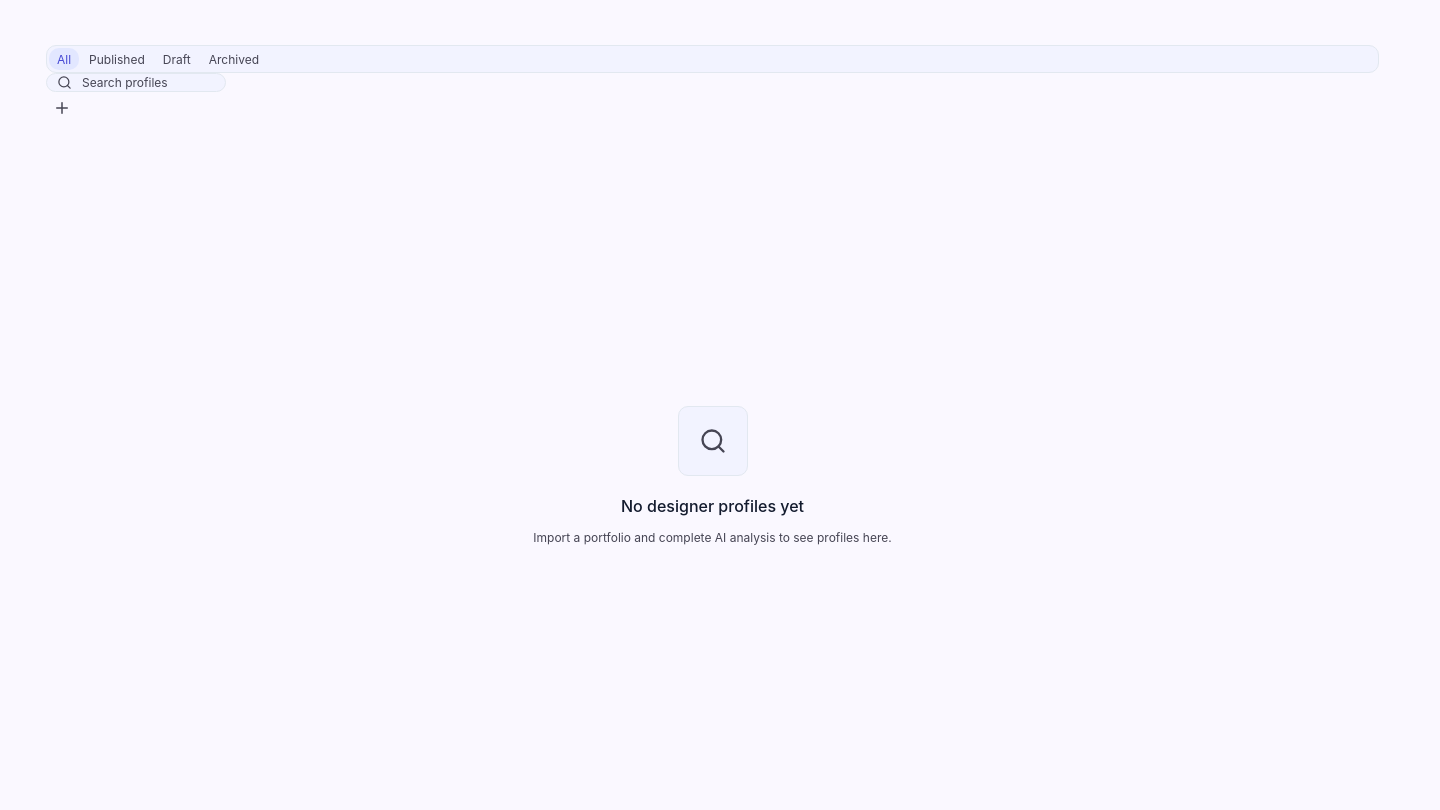
keeps an inspected selection available for retry when portfolio submission rejects
The width and height of the screenshot is (1440, 810).
Click the button named "Create from portfolio" at coordinates (62, 108), box [46,92,78,124]
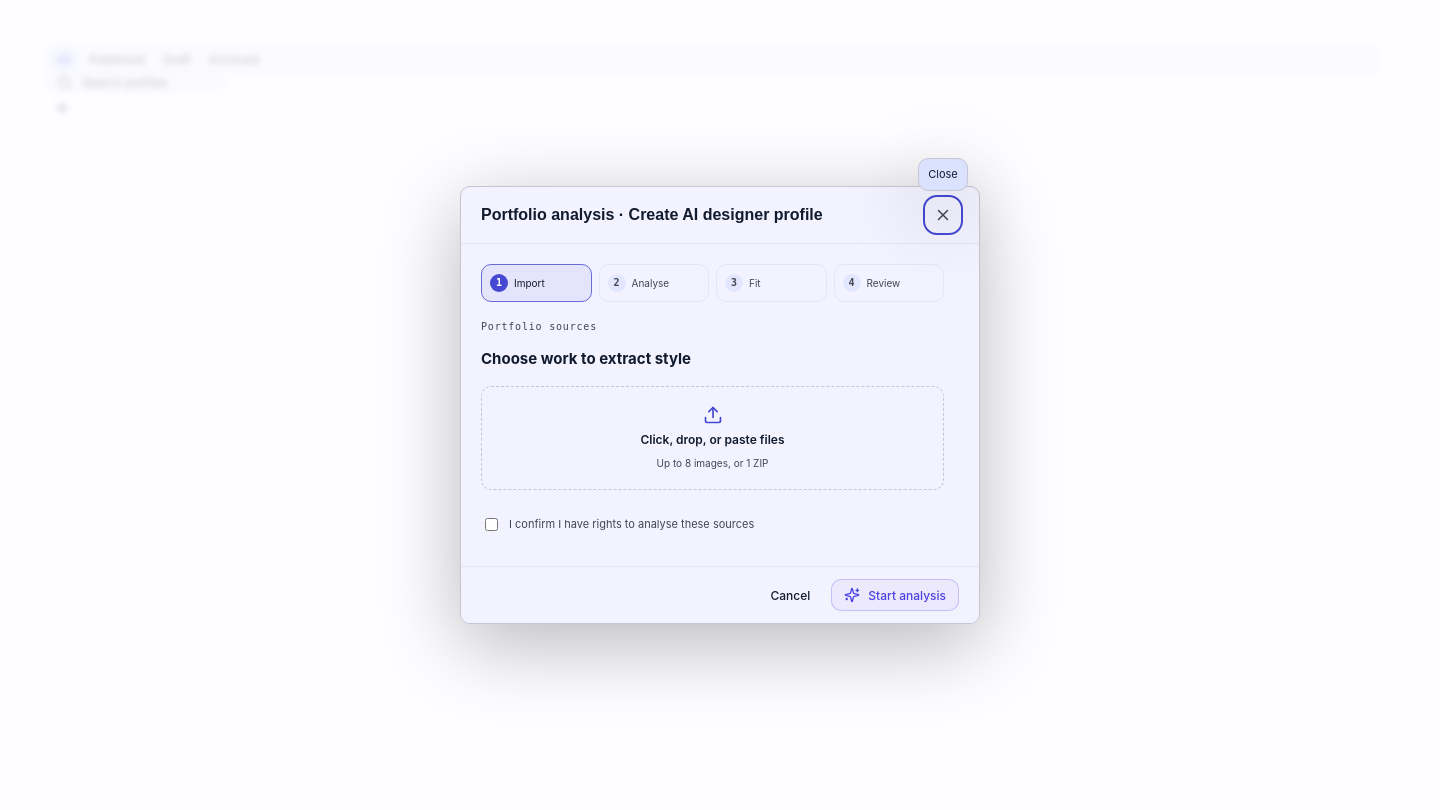
Click the button with aria-label "Upload portfolio files" at coordinates (712, 438), box [481,386,944,490]
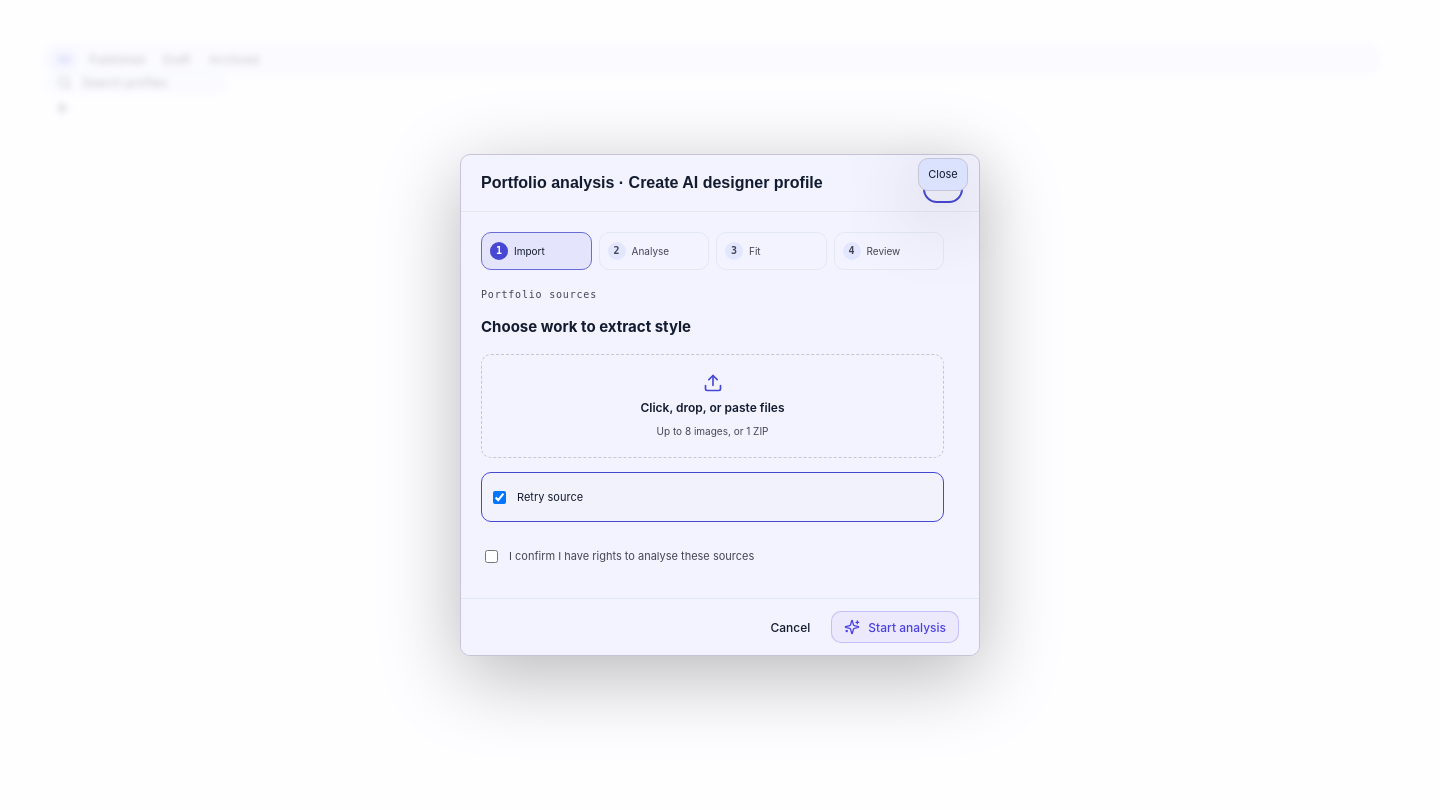
Expected: the text "Retry source" is shown, [517,490,583,504]
Click the checkbox labelled "I confirm I have rights to analyse these sources" at coordinates (492, 556), box [485,550,498,563]
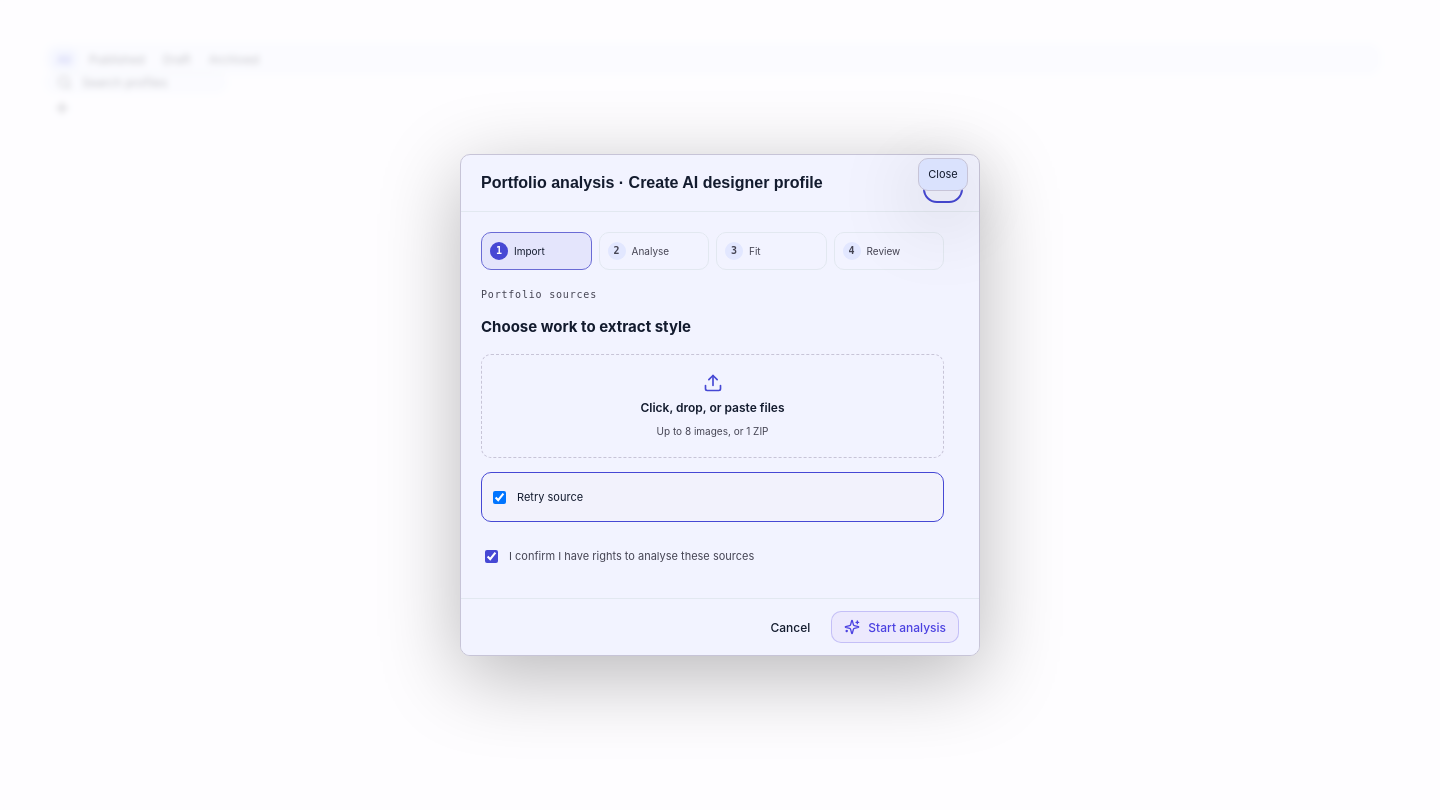
Click the button "Start analysis" at coordinates (895, 627), box [831,611,959,643]
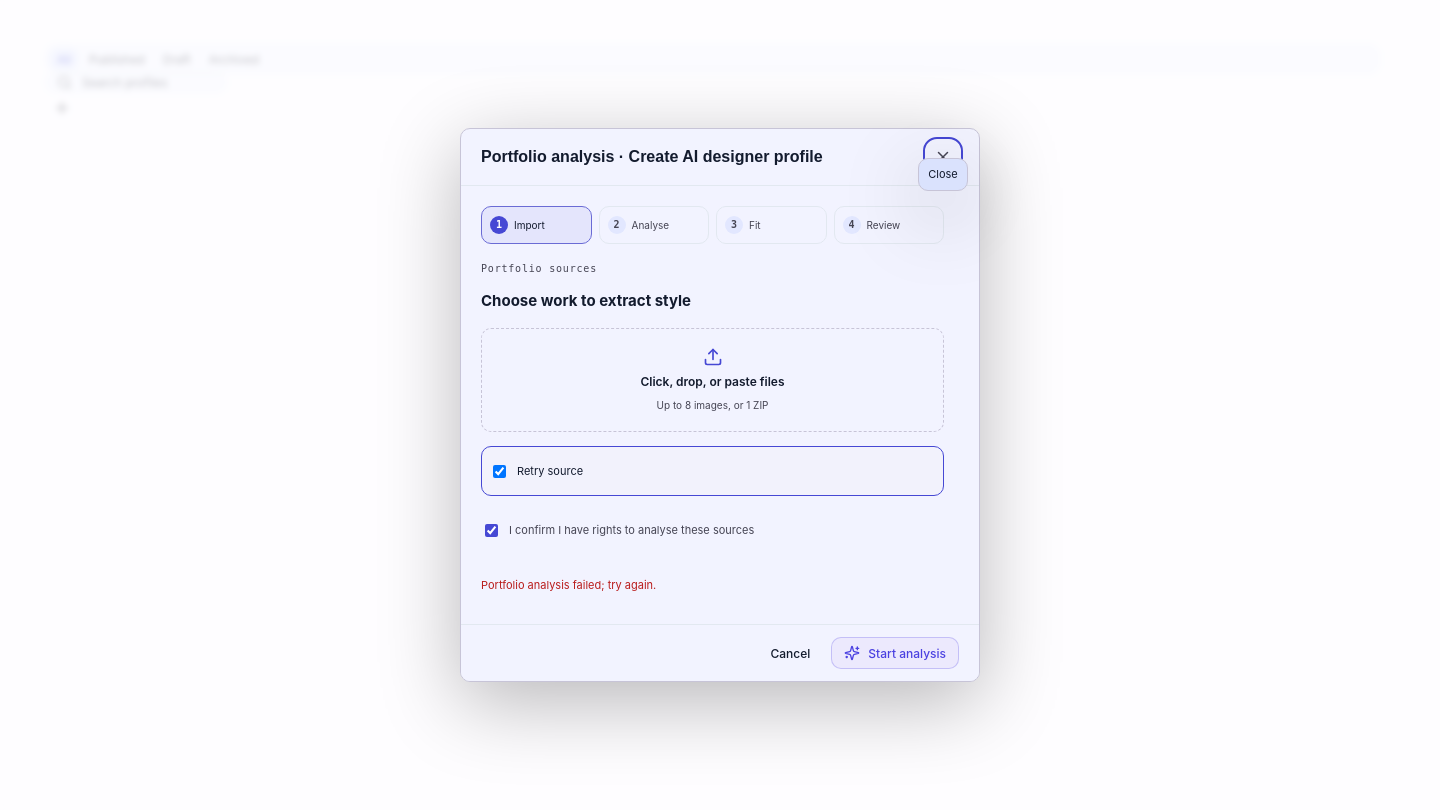
Expected: the checkbox labelled "Retry source" is checked, [493,464,506,478]
Expected: the checkbox labelled "I confirm I have rights to analyse these sources" is checked, [485,524,498,537]
Expected: the message "Portfolio analysis failed; try again." is shown, [481,578,656,592]
